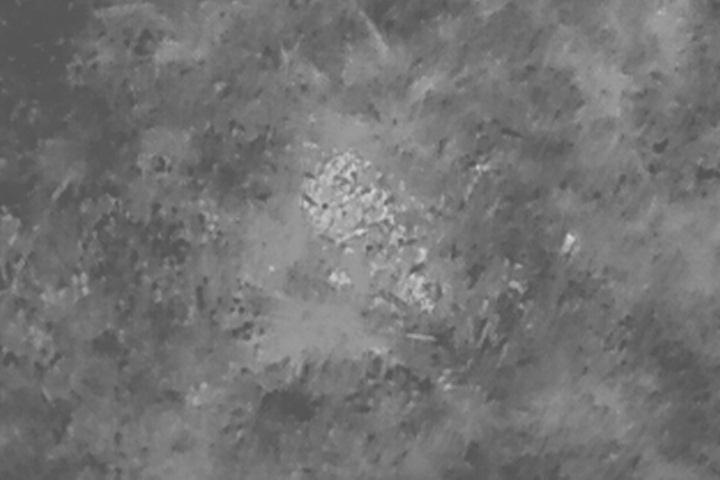landmine: (303, 148, 392, 249)
